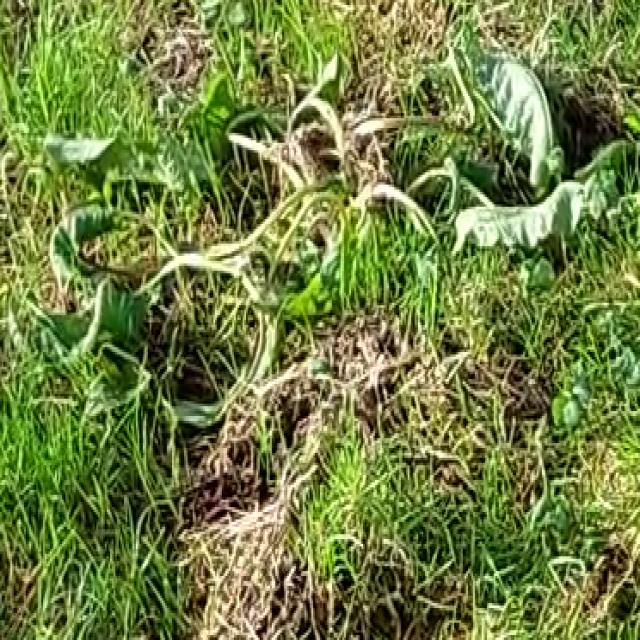organic waste: (40, 27, 630, 438)
